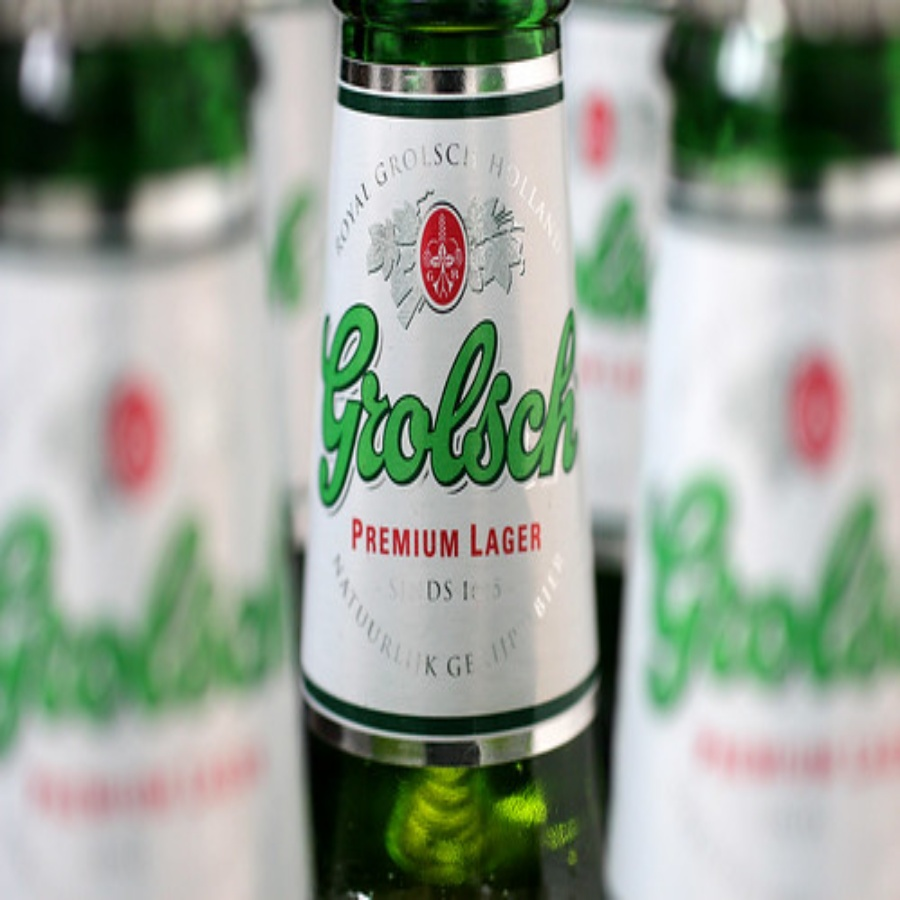beer: (275, 1, 628, 900)
